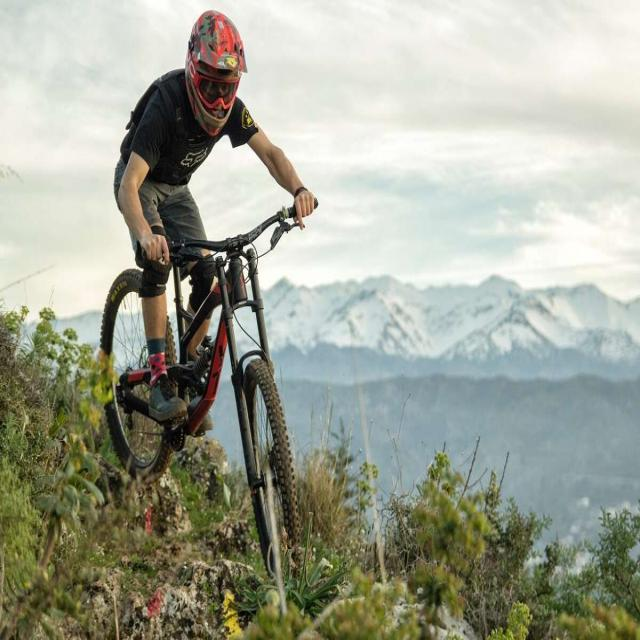bicycle: (100, 11, 316, 587)
